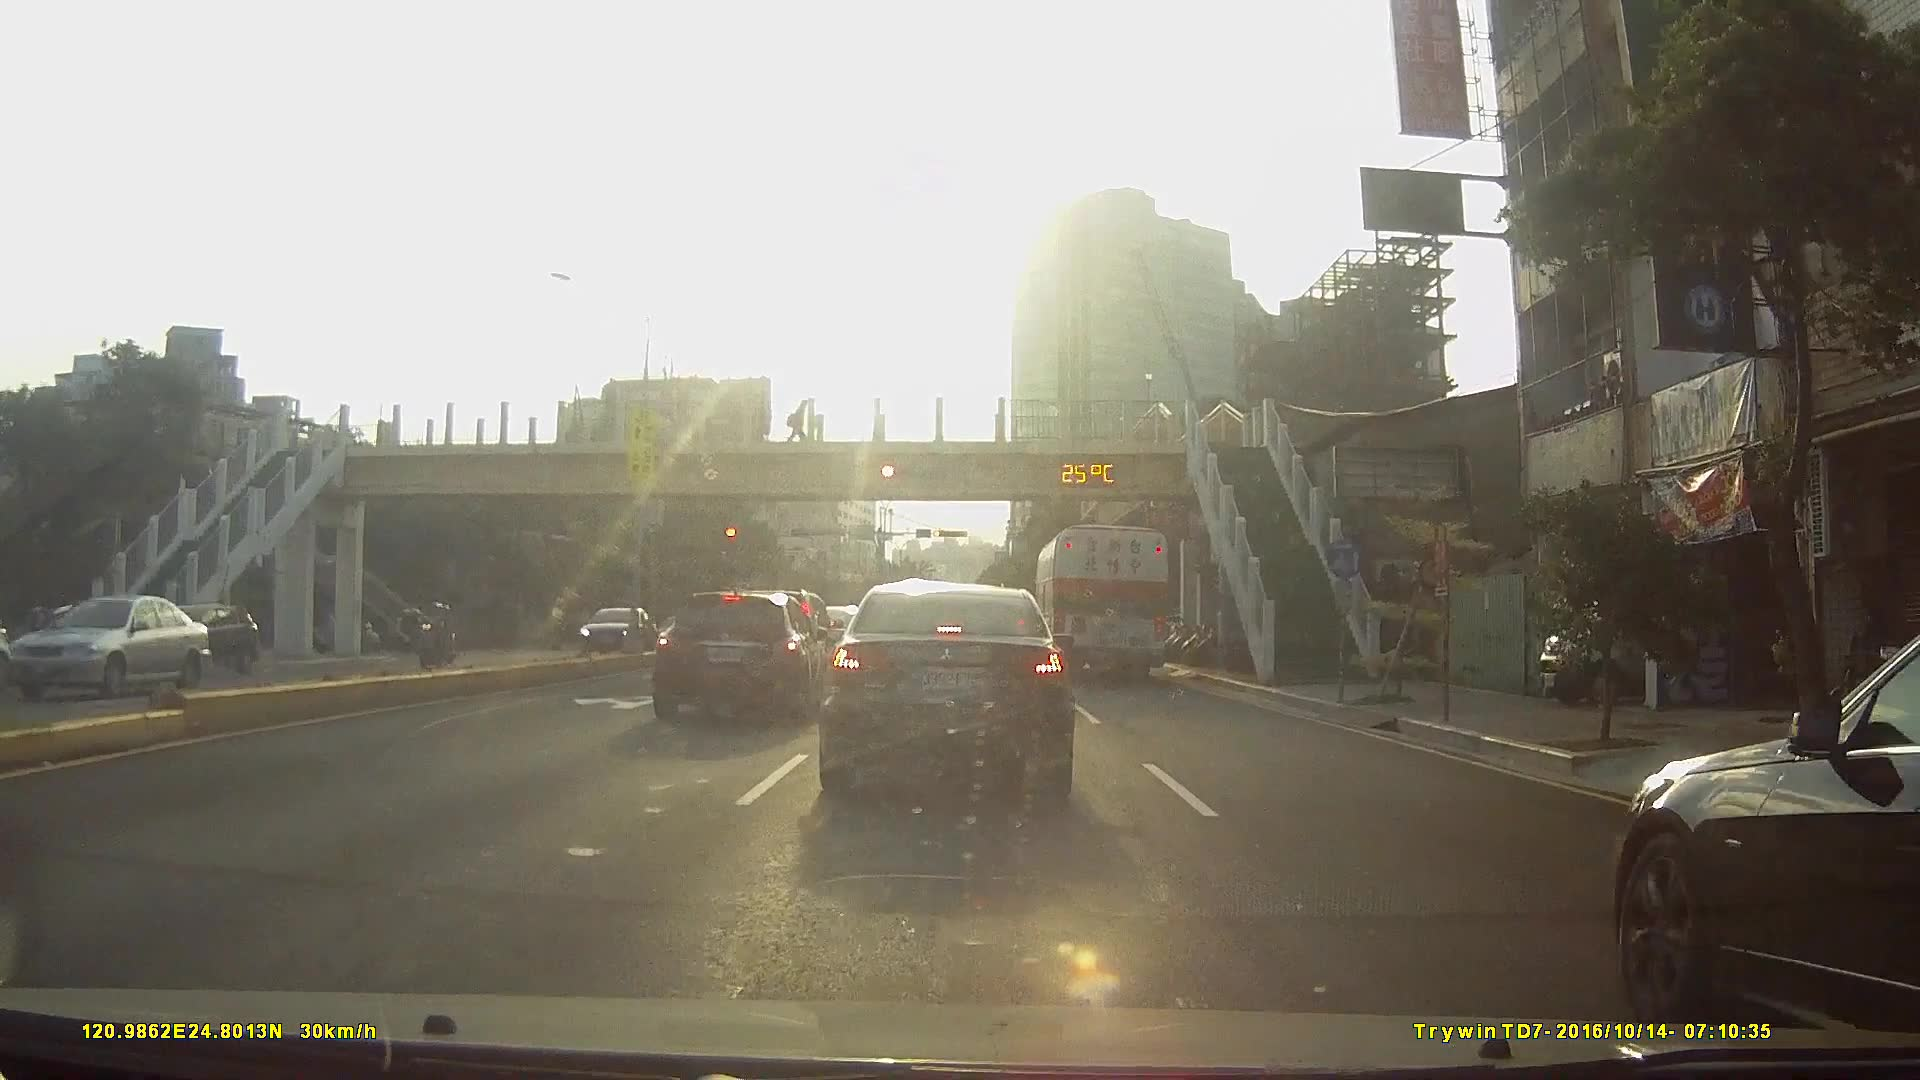pedestrian: (787, 399, 808, 446)
rider: (416, 597, 462, 670)
vehicle: (1596, 612, 1920, 1049), (815, 579, 1077, 799), (645, 585, 832, 725), (1036, 521, 1173, 682), (0, 593, 195, 702), (19, 598, 160, 684), (145, 600, 257, 674), (570, 604, 654, 656)
